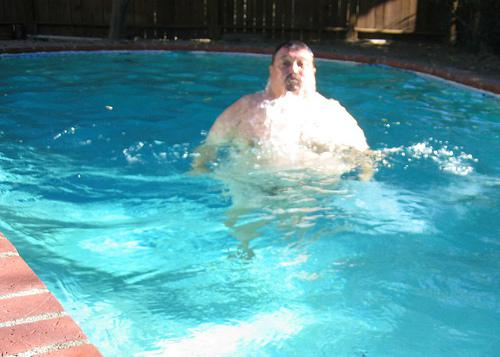human: (190, 38, 375, 183)
